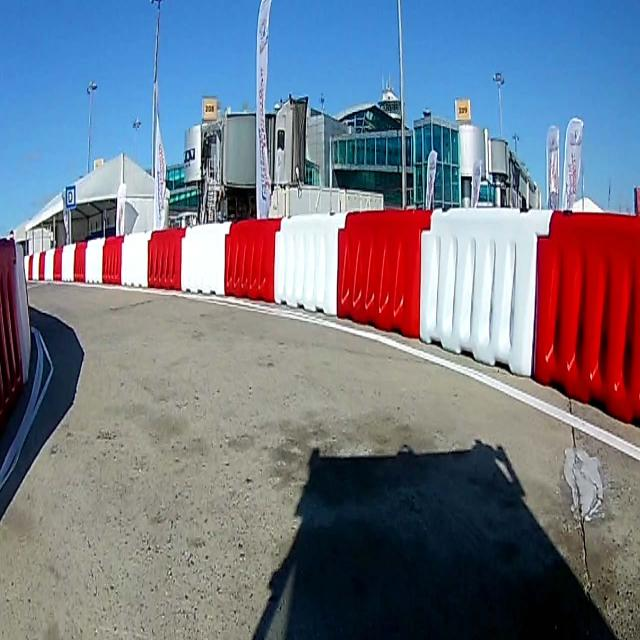durak: (65, 185, 76, 210)
